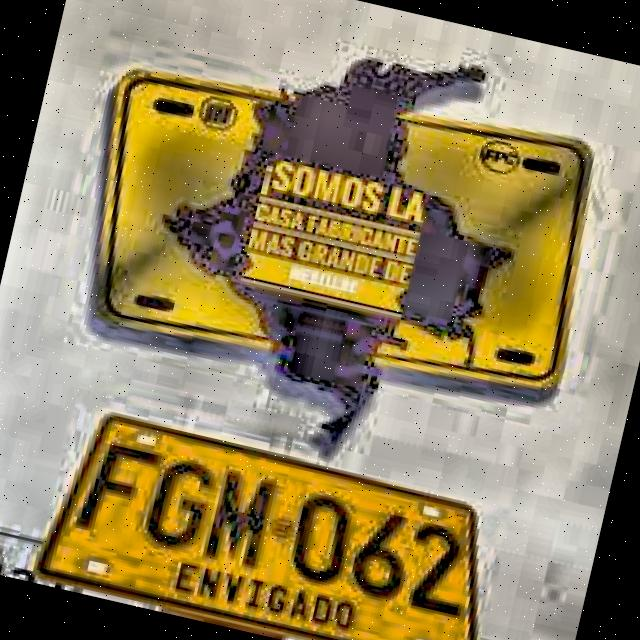0: (285, 489, 362, 591)
2: (403, 516, 466, 619)
6: (344, 507, 414, 606)
F: (68, 437, 170, 544)
G: (126, 456, 224, 557)
M: (194, 467, 282, 573)
